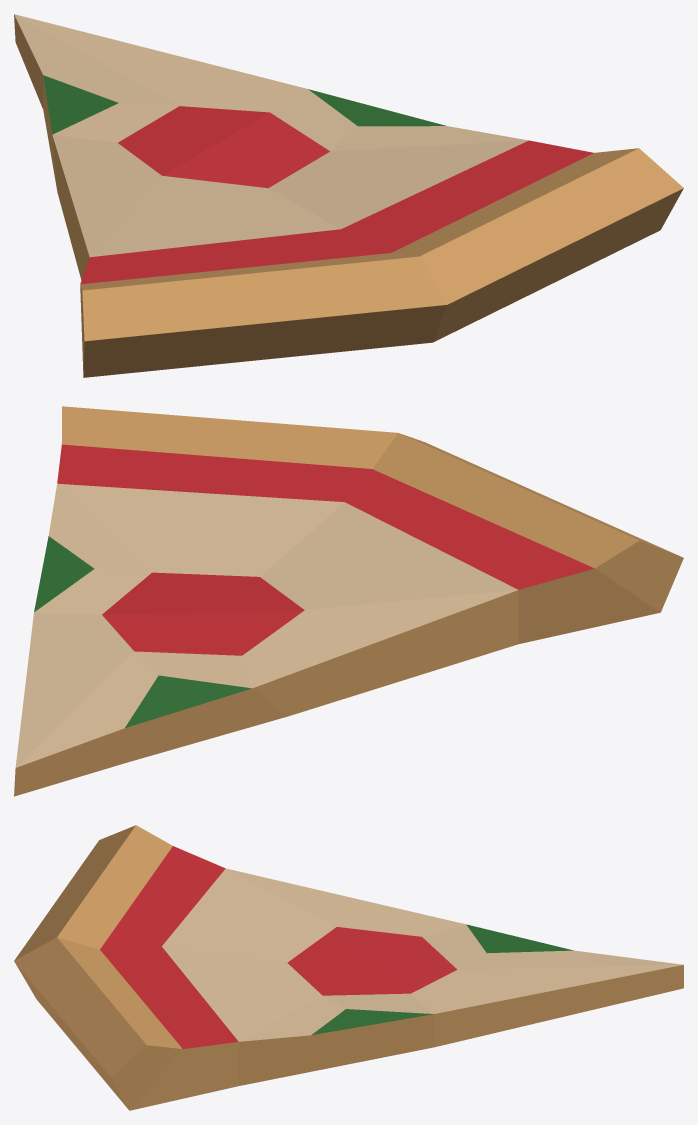
File: pizza-cheese-slice.glb
3 views of the same model, one above another, from view 1: azimuth 30°, elevation 25°; view 2: azimuth 150°, elevation 25°; view 3: azimuth 270°, elevation 25° (orthographic). The views are drawn at different scales.
Parts seen in each view (by area): view 1: pizza-cheese-slice; view 2: pizza-cheese-slice; view 3: pizza-cheese-slice.
Part boxes in pixels (x1,y1,x2,y2): pizza-cheese-slice: (14, 14, 683, 377); pizza-cheese-slice: (14, 406, 683, 796); pizza-cheese-slice: (14, 825, 683, 1110).
Size of the model in its own units: 0.1856 by 0.0225 by 0.2217.
1 material, 1 textured.
